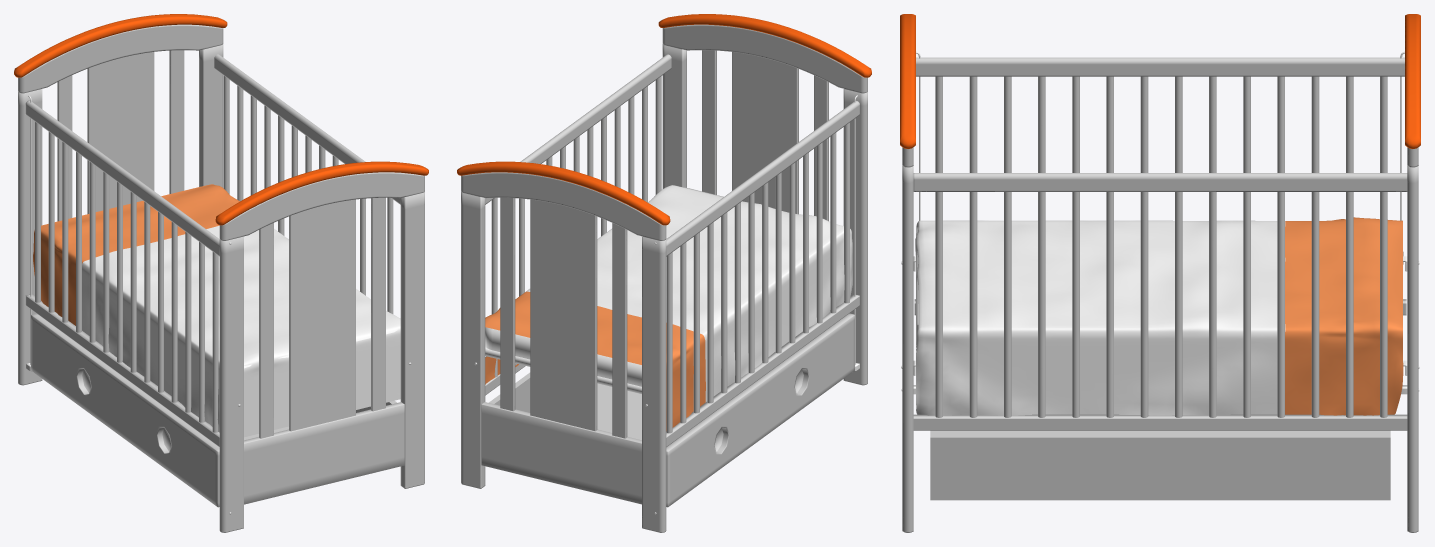
File: Crib.gltf
3 views of the same model, side by side, from view 1: azimuth 30°, elevation 25°; view 2: azimuth 150°, elevation 25°; view 3: azimuth 270°, elevation 25° (orthographic). The views are drawn at different scales.
Parts seen in each view (by area): view 1: base, Plane, box; view 2: base, Plane, box, Cube.003, mattress, sumi; view 3: base, Plane, Cube.003, guide.
Part boxes in pixels (x1,y1,x2,y2): base: [14, 14, 428, 532]; Plane: [33, 184, 400, 437]; box: [31, 313, 219, 507]; base: [457, 14, 871, 532]; Plane: [485, 185, 852, 430]; box: [666, 313, 854, 507]; Cube.003: [488, 372, 641, 439]; mattress: [485, 187, 723, 386]; sumi: [485, 346, 641, 393]; base: [900, 14, 1420, 532]; Plane: [915, 217, 1403, 415]; Cube.003: [930, 430, 1390, 500]; guide: [901, 51, 1419, 394].
Size of the model in its own units: 0.728 by 1.11 by 1.24.
